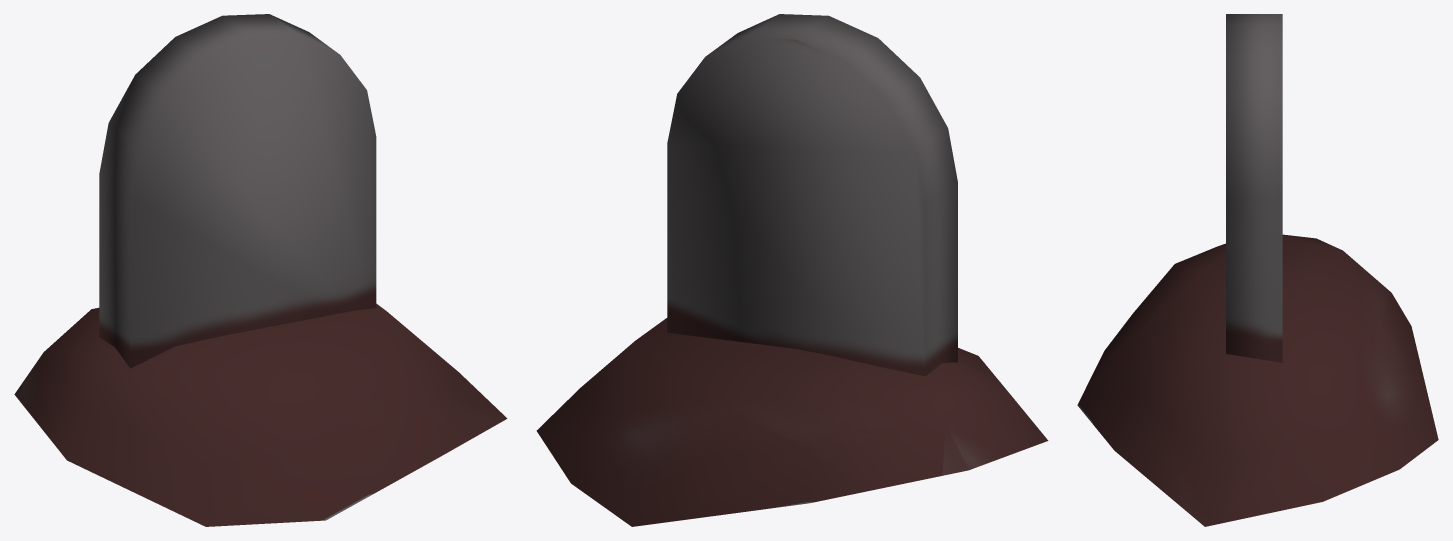
File: gravestone.glb
The picture shows the model from 3 angles, left to right: view 1: azimuth 30°, elevation 25°; view 2: azimuth 150°, elevation 25°; view 3: azimuth 270°, elevation 25°; orthographic projection. The views are drawn at different scales.
Visible parts, largest first — view 1: Gravestone_lofi; view 2: Gravestone_lofi; view 3: Gravestone_lofi.
Boxes of the visible parts, box(x1,y1,x2,y2) form: Gravestone_lofi: box(14, 14, 507, 526); Gravestone_lofi: box(536, 14, 1048, 526); Gravestone_lofi: box(1077, 14, 1438, 526).
Bounding box in the file's own units: 1.72 × 1.6 × 1.34.
Materials: 1 (1 with a texture image).
